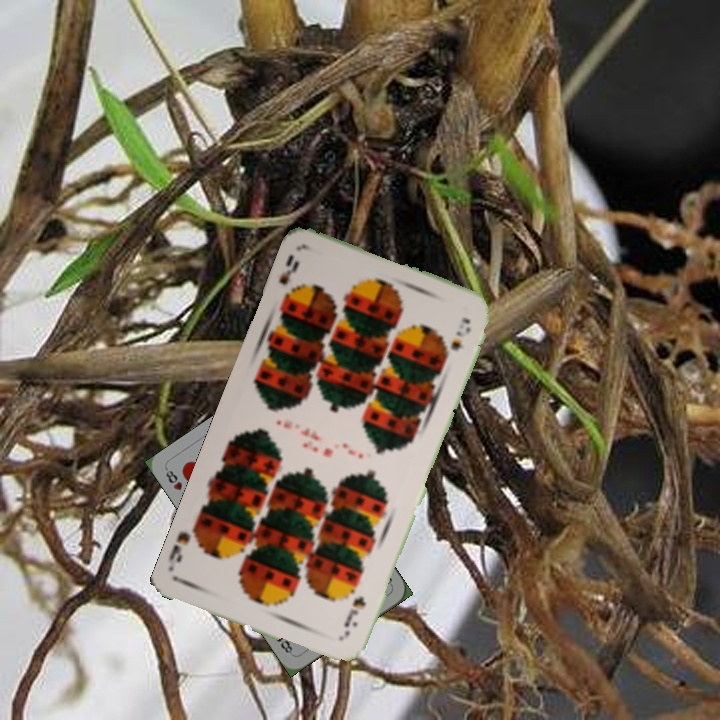H8: (162, 465, 185, 493)
S9: (274, 250, 302, 304), (339, 593, 369, 640)
